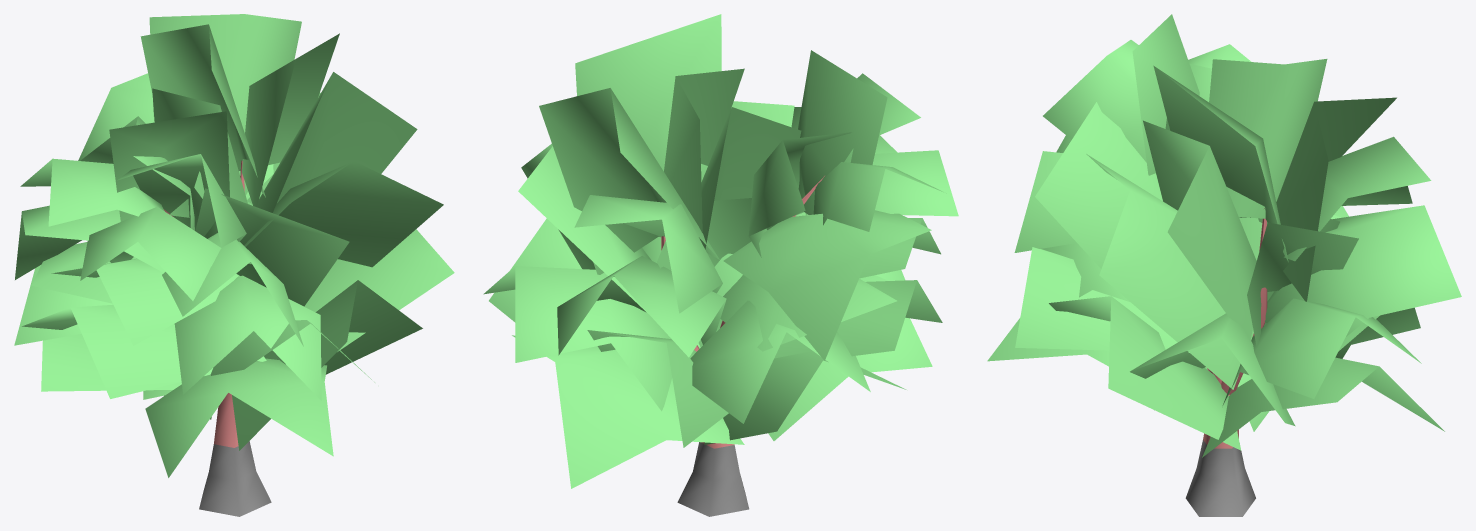
Rendered from Oren_elf_tree08.gltf.
3 views of the same model, side by side, from view 1: azimuth 30°, elevation 25°; view 2: azimuth 150°, elevation 25°; view 3: azimuth 270°, elevation 25° (orthographic).
Parts seen in each view (by area): view 1: Oren_elf_tree08; view 2: Oren_elf_tree08; view 3: Oren_elf_tree08.
Part boxes in pixels (bbox=[...]): Oren_elf_tree08: bbox=[14, 14, 454, 516]; Oren_elf_tree08: bbox=[483, 14, 958, 516]; Oren_elf_tree08: bbox=[987, 14, 1461, 516].
Bounding box in the file's own units: 9.28 × 9.95 × 9.47.
